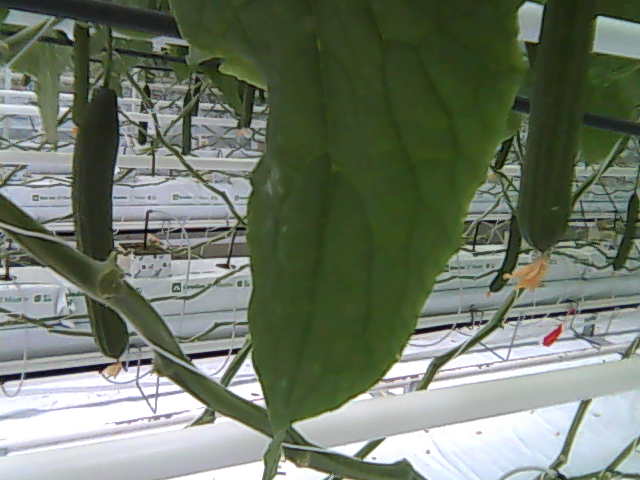concombre: (515, 1, 599, 290), (68, 81, 133, 378)
